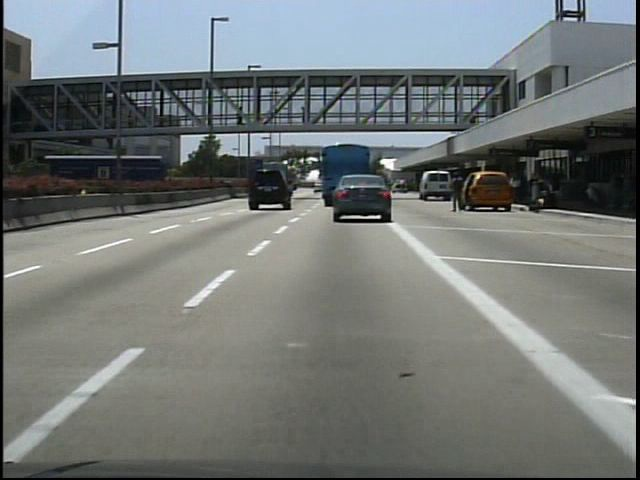person: (450, 172, 470, 218), (298, 105, 312, 133), (235, 102, 250, 127)
